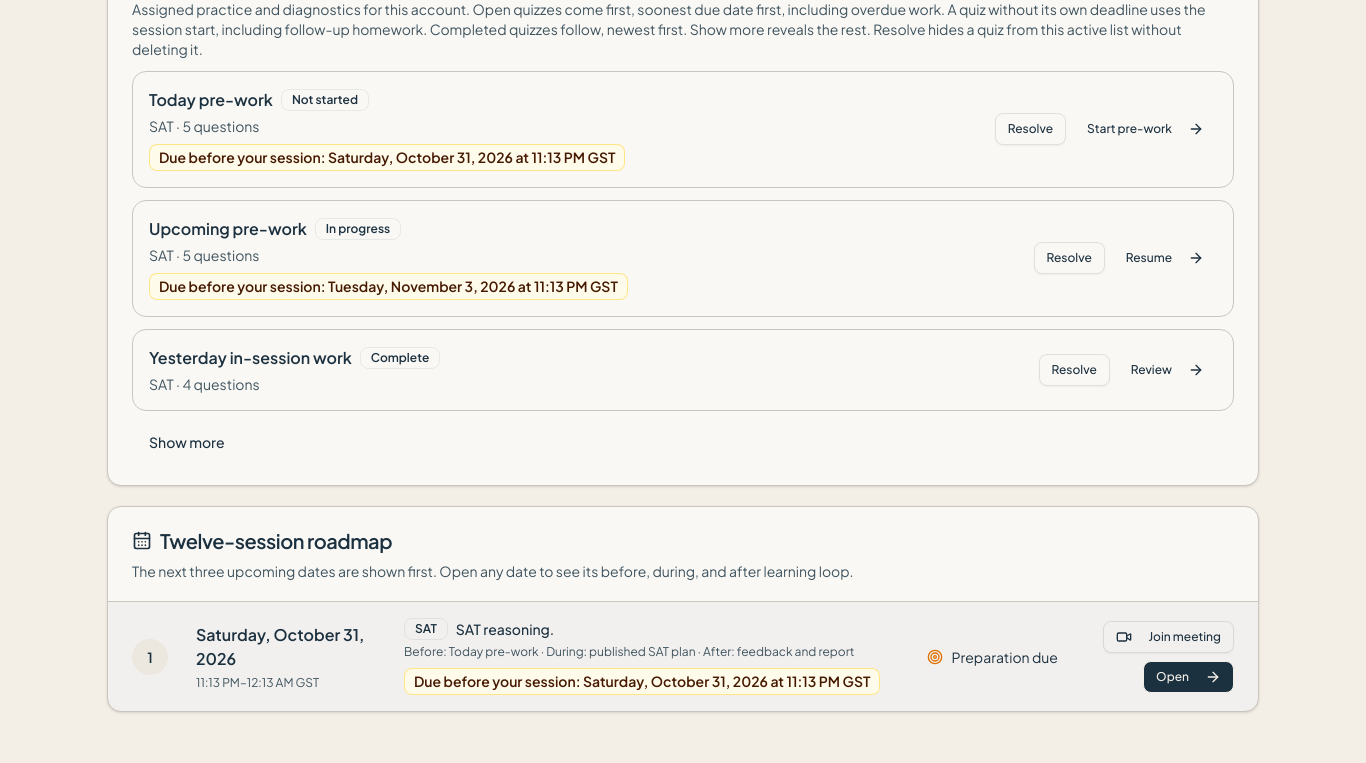
authenticated role dashboard flows › past-session quizzes show Complete and stay collapsed under Quizzes
The width and height of the screenshot is (1366, 763).
(page scrolled)
Expected: the element with test id "client-quiz-today-quiz" shows "Not started", [292,92,358,106]
Expected: the element with test id "client-quiz-today-quiz" does not show "Complete"
Click the button with test id "assignment-notifications-show-more": [187, 442] box [132,423,242,461]
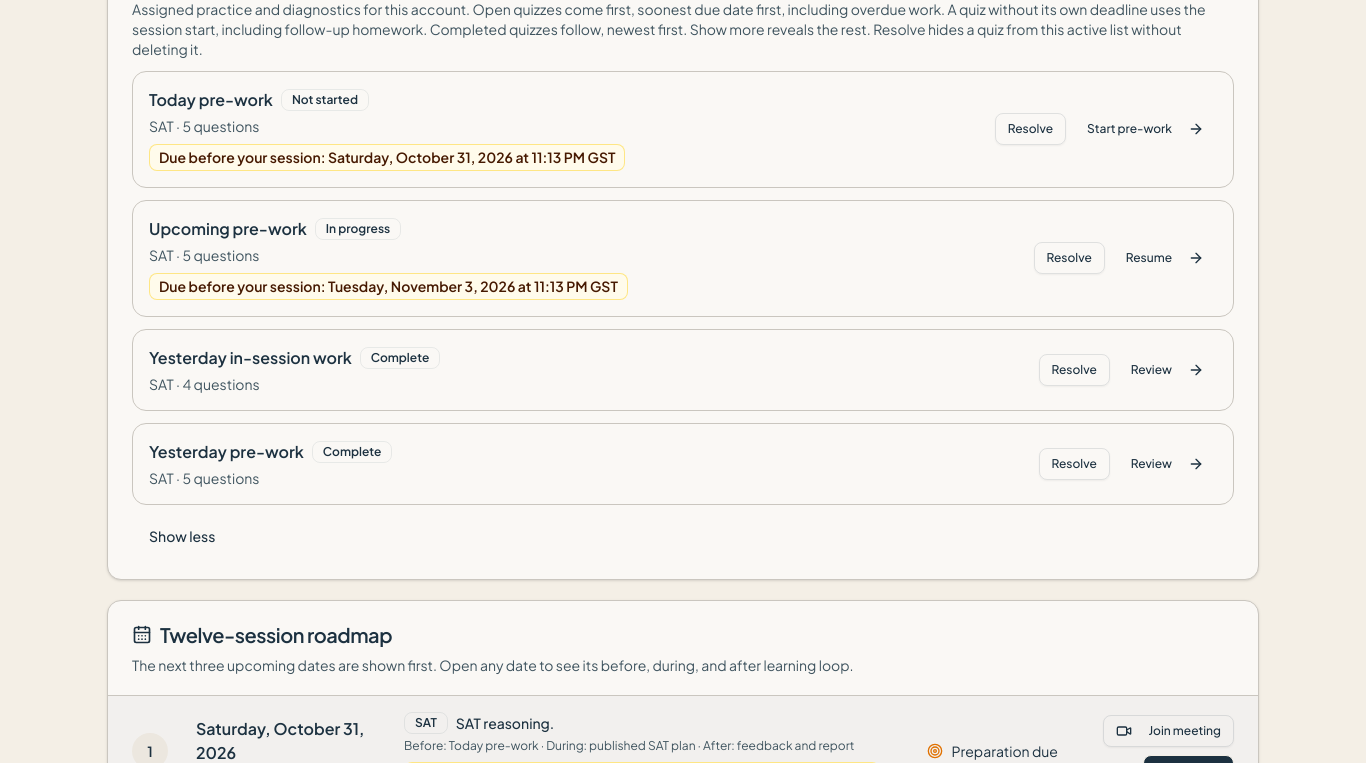
Now the element with test id "client-quiz-past-prework" shows "Yesterday pre-work", box [149,441,304,462]
Now the element with test id "client-quiz-past-prework" shows "Complete", box [323,444,381,459]
Now the element with test id "client-quiz-past-prework" shows "Review", box [1118,448,1217,480]
Click the button with test id "assignment-notifications-show-more": [182, 536] box [132,517,232,555]
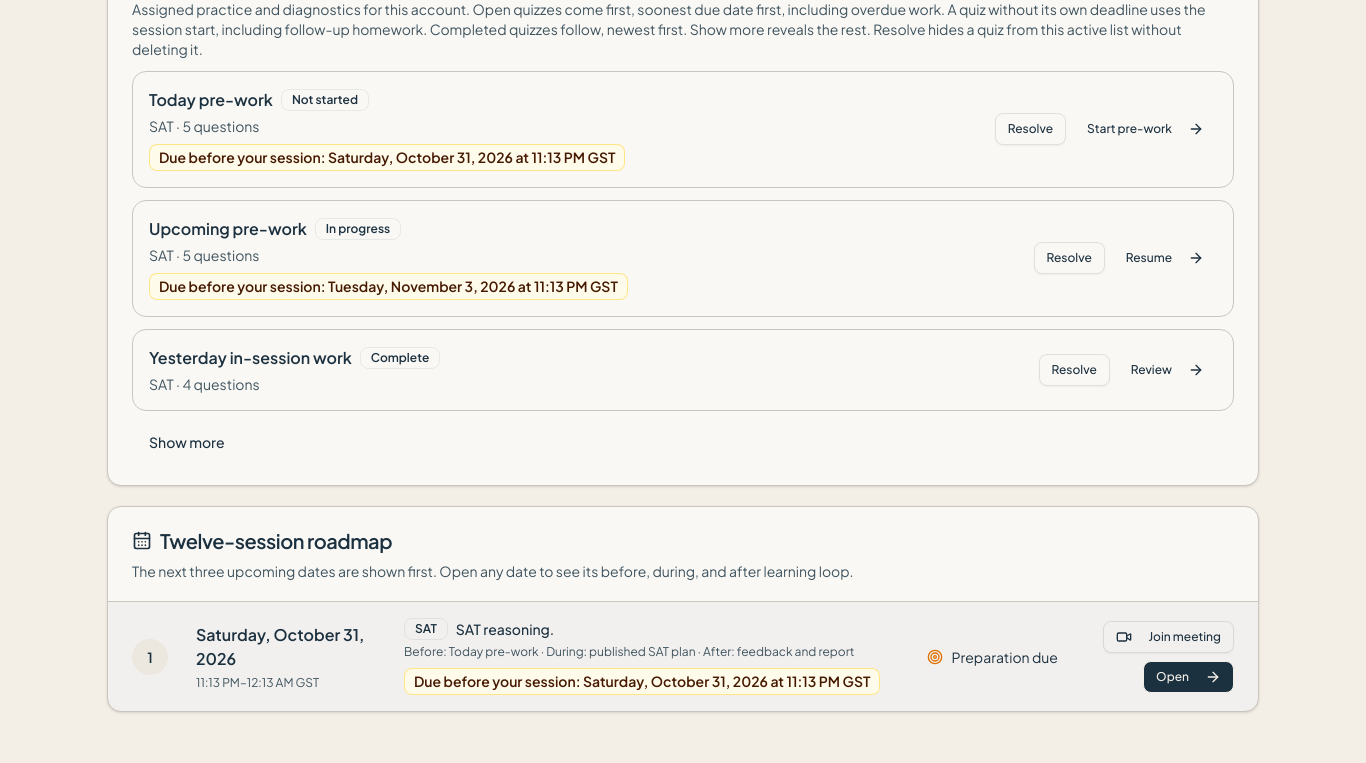
Expected: the element with test id "client-quiz-future-quiz" is shown, [132,200,1234,317]
Now the element with test id "client-quiz-past-prework" is gone
Now the button with test id "assignment-notifications-show-more" reads "Show more", box [132,423,242,461]
